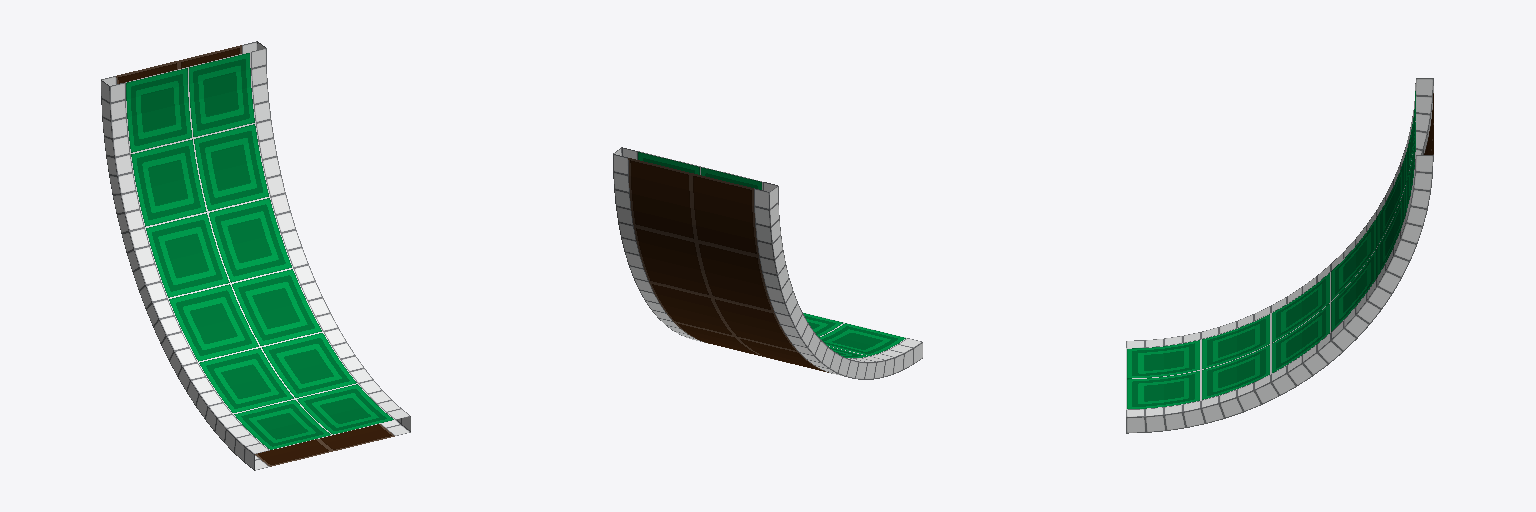
3 views of the same model, side by side, from view 1: azimuth 30°, elevation 25°; view 2: azimuth 150°, elevation 25°; view 3: azimuth 270°, elevation 25° (orthographic).
Parts seen in each view (by area): view 1: StratagemBMCurve1; view 2: StratagemBMCurve1; view 3: StratagemBMCurve1.
Boxes of the visible parts, x1,y1,x2,y2 form: StratagemBMCurve1: [101, 41, 410, 470]; StratagemBMCurve1: [613, 147, 922, 379]; StratagemBMCurve1: [1126, 78, 1433, 433].
Bounding box in the file's own units: 5 × 8.5 × 8.5.
Materials: 3 (3 with a texture image).